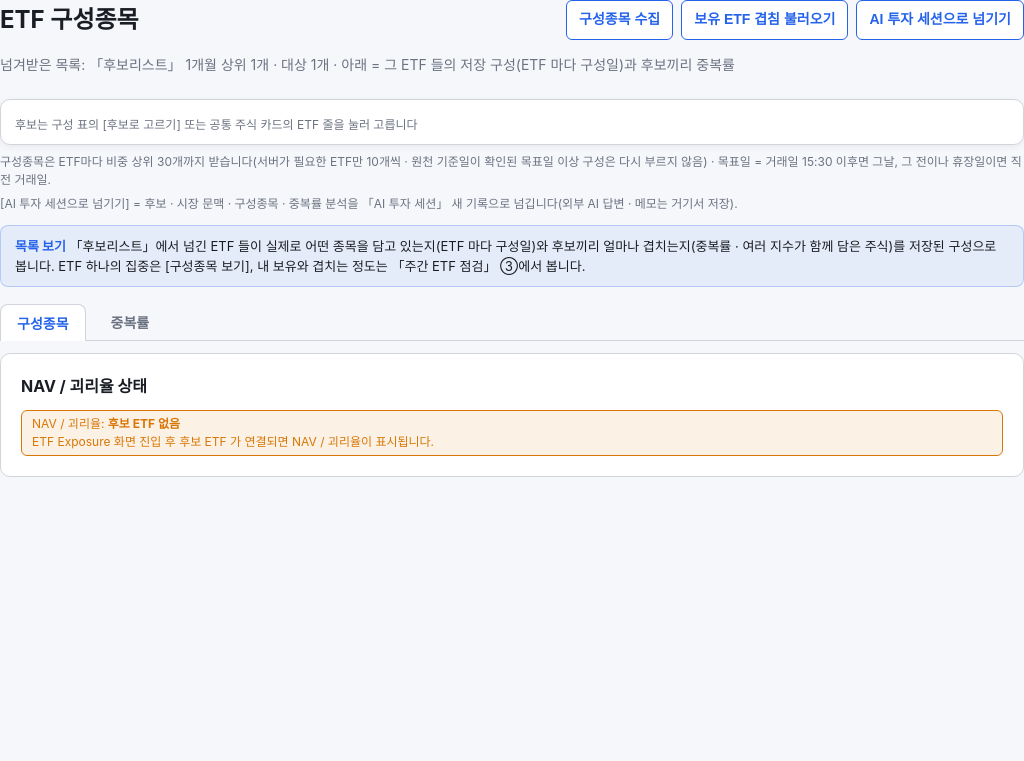
Test case: 「ETF 구성종목」 버튼 배치(2026-11-16 사용자 직접 지시 — 맨 아래 → 제목 줄 · 형제 화면과 같은 중간 버튼) › [보유 ETF 겹침 불러오기]를 누르면 결과 카드가 위쪽(탭 위)에 열린다
Click the button with test id "exposure-bridge-load": point(765, 20) [681,0,848,40]
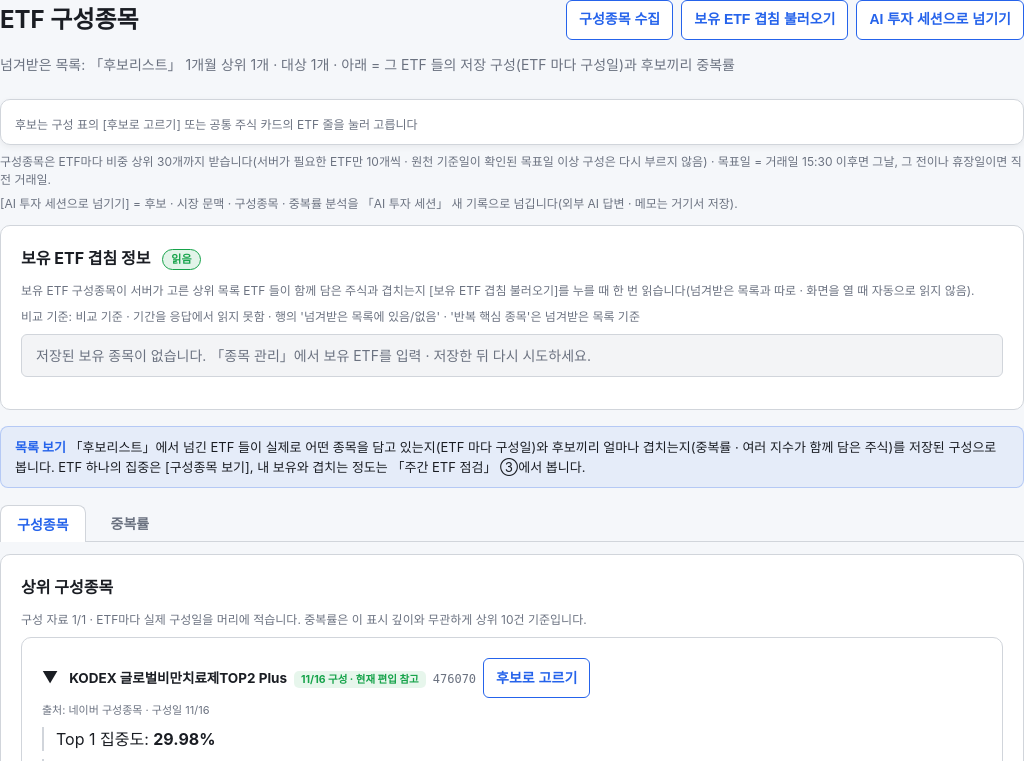
Check: the heading "보유 ETF 겹침 정보 읽음" is shown, box [21,248,201,270]
